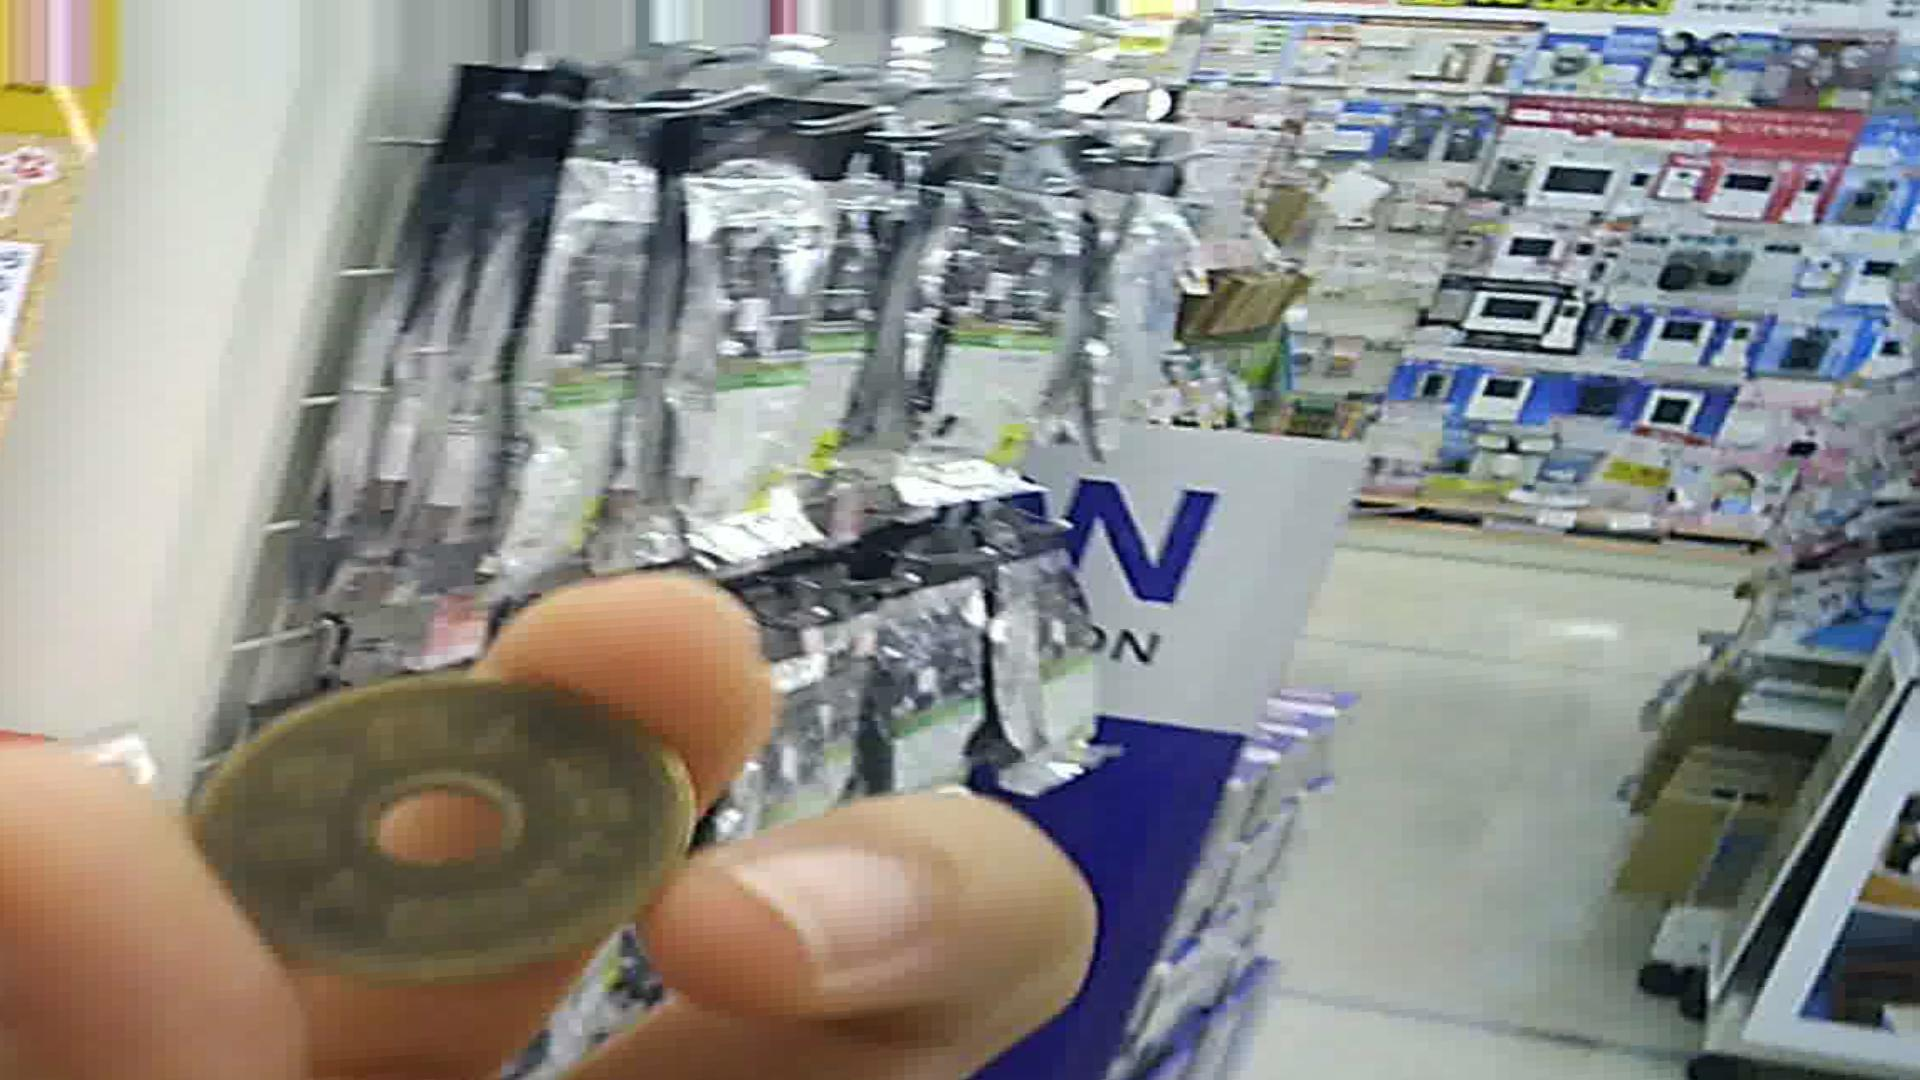5 Yen: (187, 679, 700, 967)
